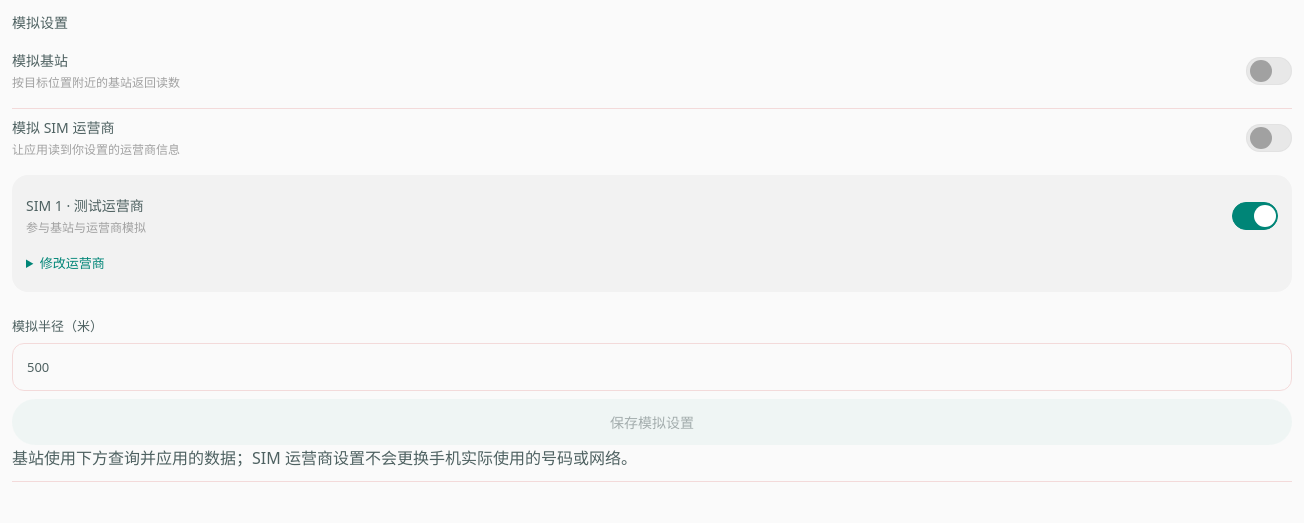
uses detected slot IDs and preserves three-digit MNC when enabling cell simulation
Click the checkbox labelled "模拟基站" at (1269, 71), box left=1246, top=57, right=1292, bottom=85
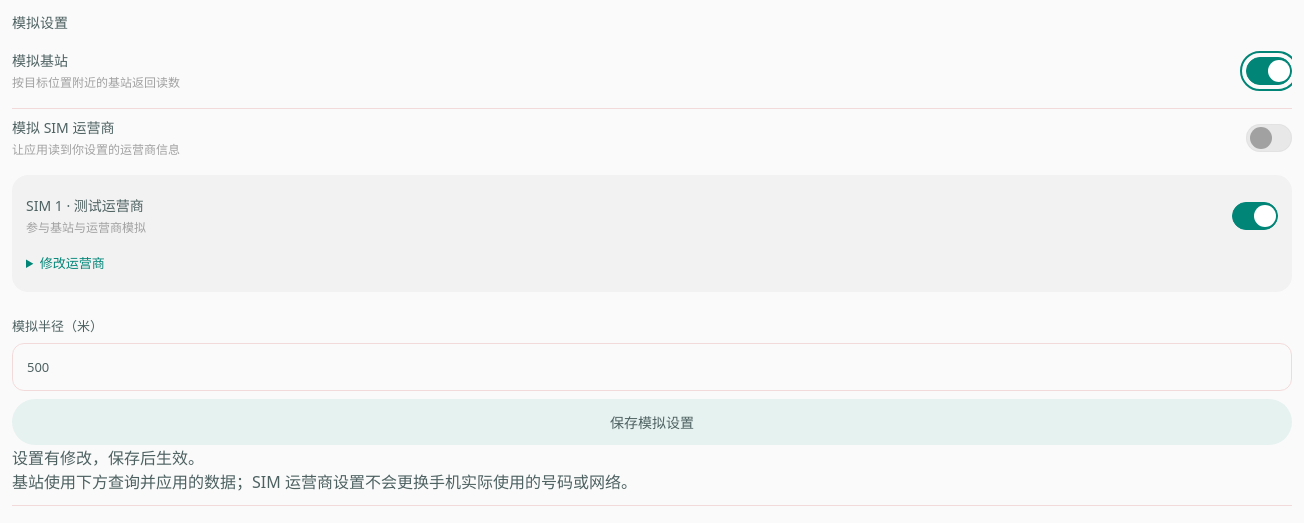
Click the button "保存模拟设置" at (652, 422), box left=12, top=399, right=1292, bottom=445
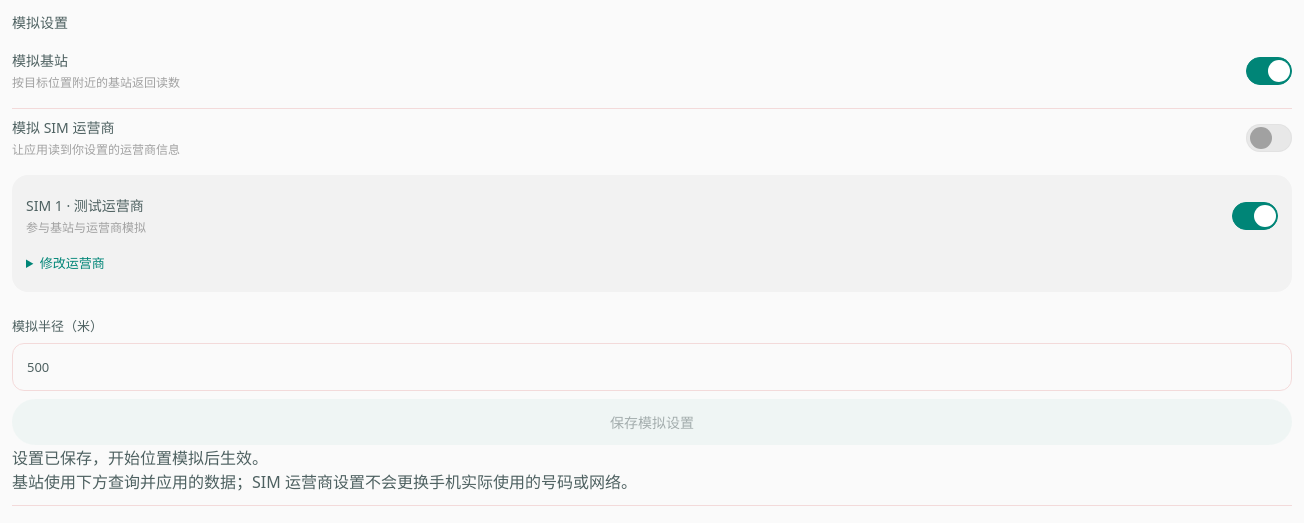
Check: the text "设置已保存，开始位置模拟后生效。" is shown, box left=12, top=447, right=268, bottom=469
